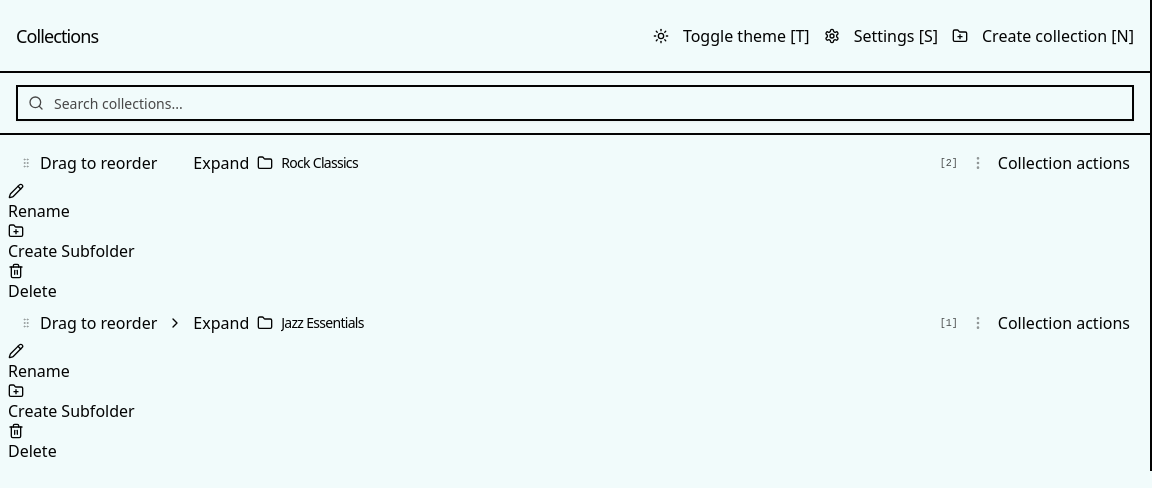
Scenario: FolderTree Search › filters folders by album name
Type "Paranoid" into the field with placeholder "Search collections..." at [575, 103], box [16,85,1134,121]
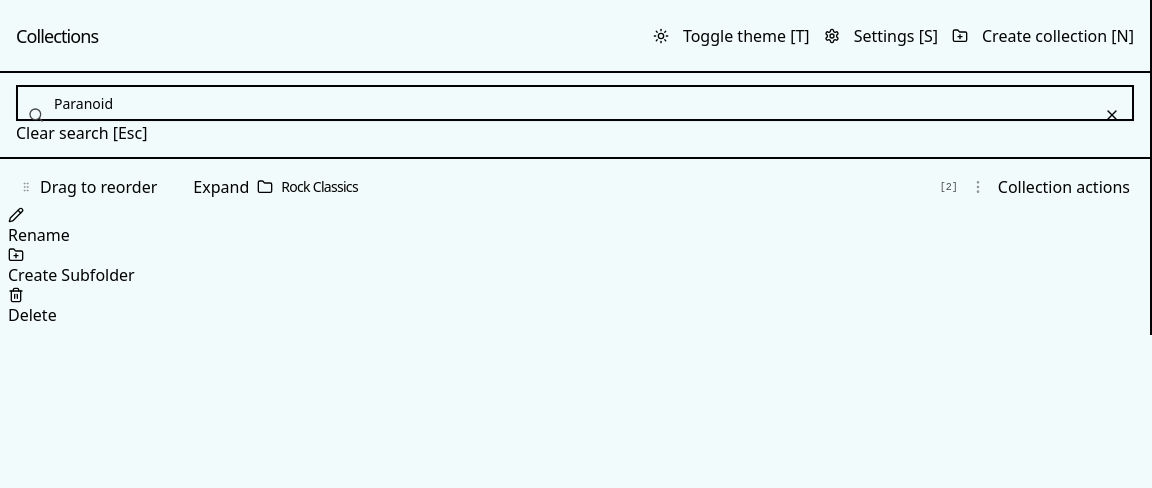
Expected: the text "Rock Classics" is shown, [281,177,358,196]
Expected: the text "Jazz Essentials" is gone
